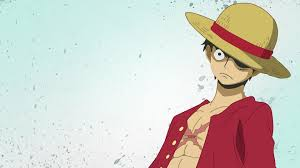luffy: (183, 2, 295, 92)
